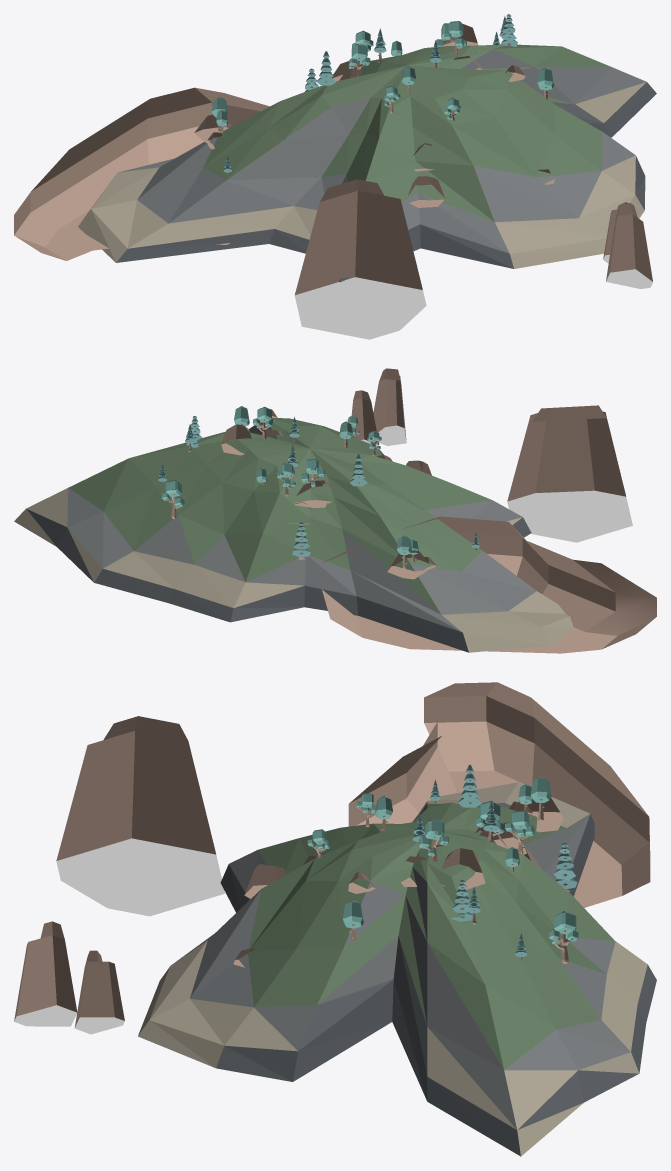
The model's file is west_watch_lod0.glb.
3 views of the same model, one above another, from view 1: azimuth 30°, elevation 25°; view 2: azimuth 150°, elevation 25°; view 3: azimuth 270°, elevation 25° (orthographic). The views are drawn at different scales.
Bounding box in the file's own units: 2.98 × 0.6788 × 2.03.
